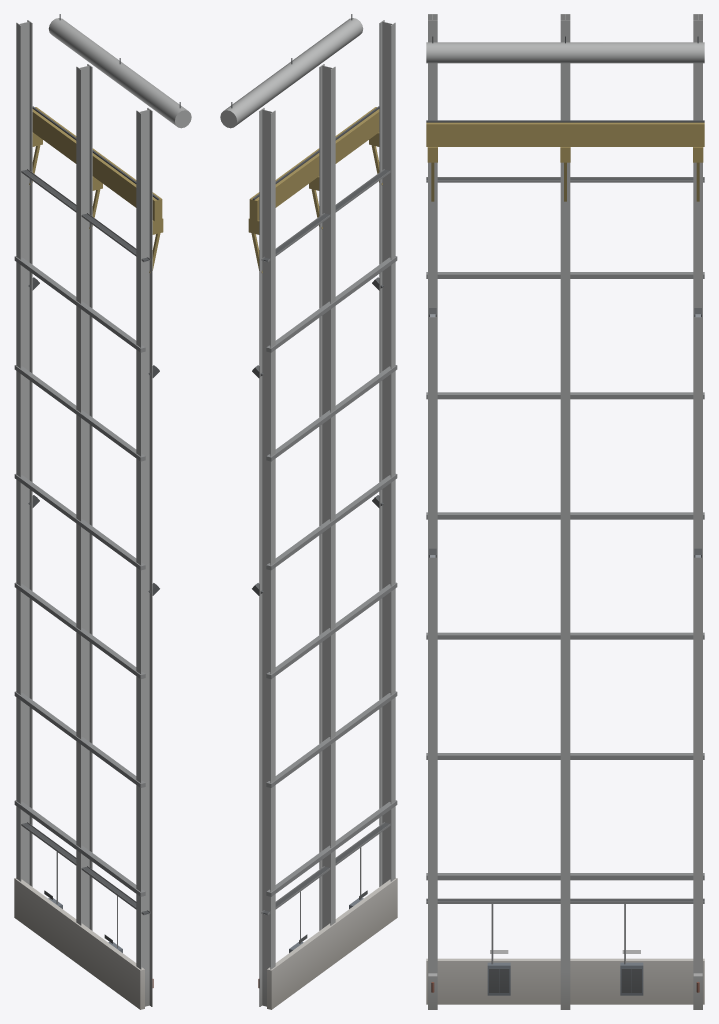
The model's file is wall_w_m.glb.
3 views of the same model, side by side, from view 1: azimuth 30°, elevation 25°; view 2: azimuth 150°, elevation 25°; view 3: azimuth 270°, elevation 25° (orthographic). The views are drawn at different scales.
Parts seen in each view (by area): view 1: wall_w_m; view 2: wall_w_m; view 3: wall_w_m.
Boxes of the visible parts, box(x1,y1,x2,y2) form: wall_w_m: box(14, 14, 191, 1009); wall_w_m: box(220, 14, 397, 1009); wall_w_m: box(426, 14, 704, 1009).
Size of the model in its own units: 3.95 by 65.85 by 16.8.
